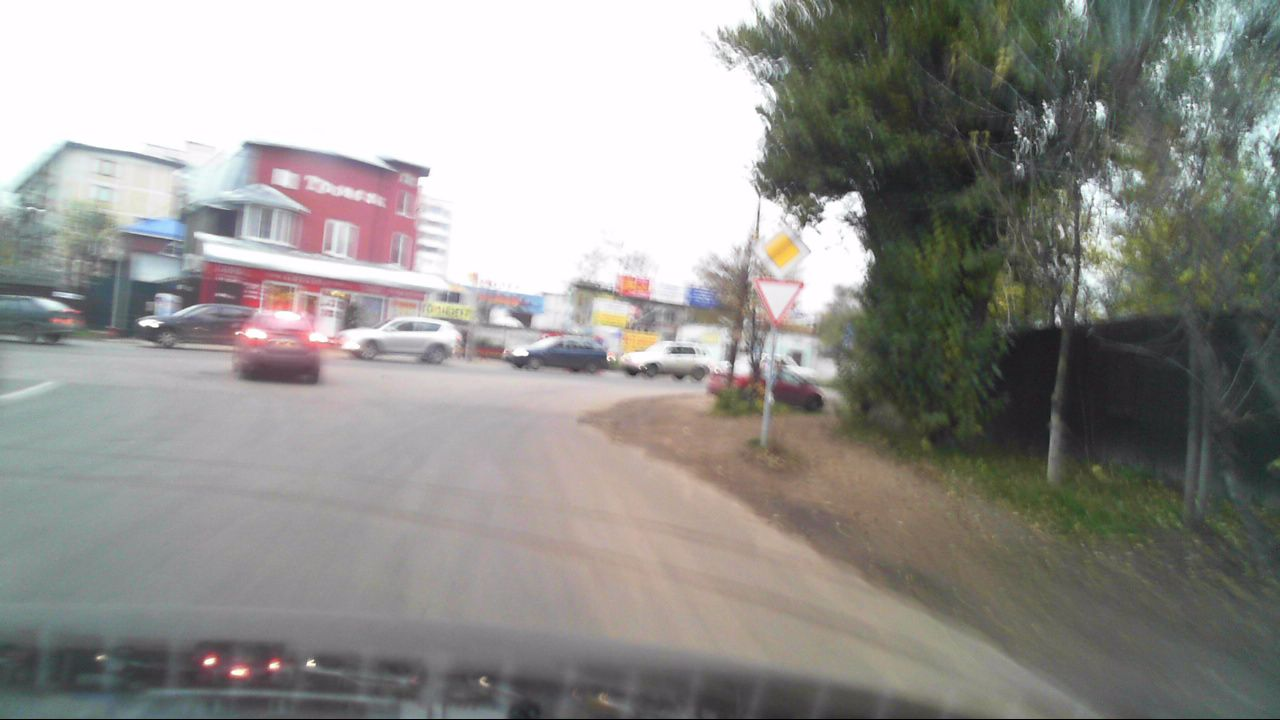main road: (753, 223, 810, 279)
